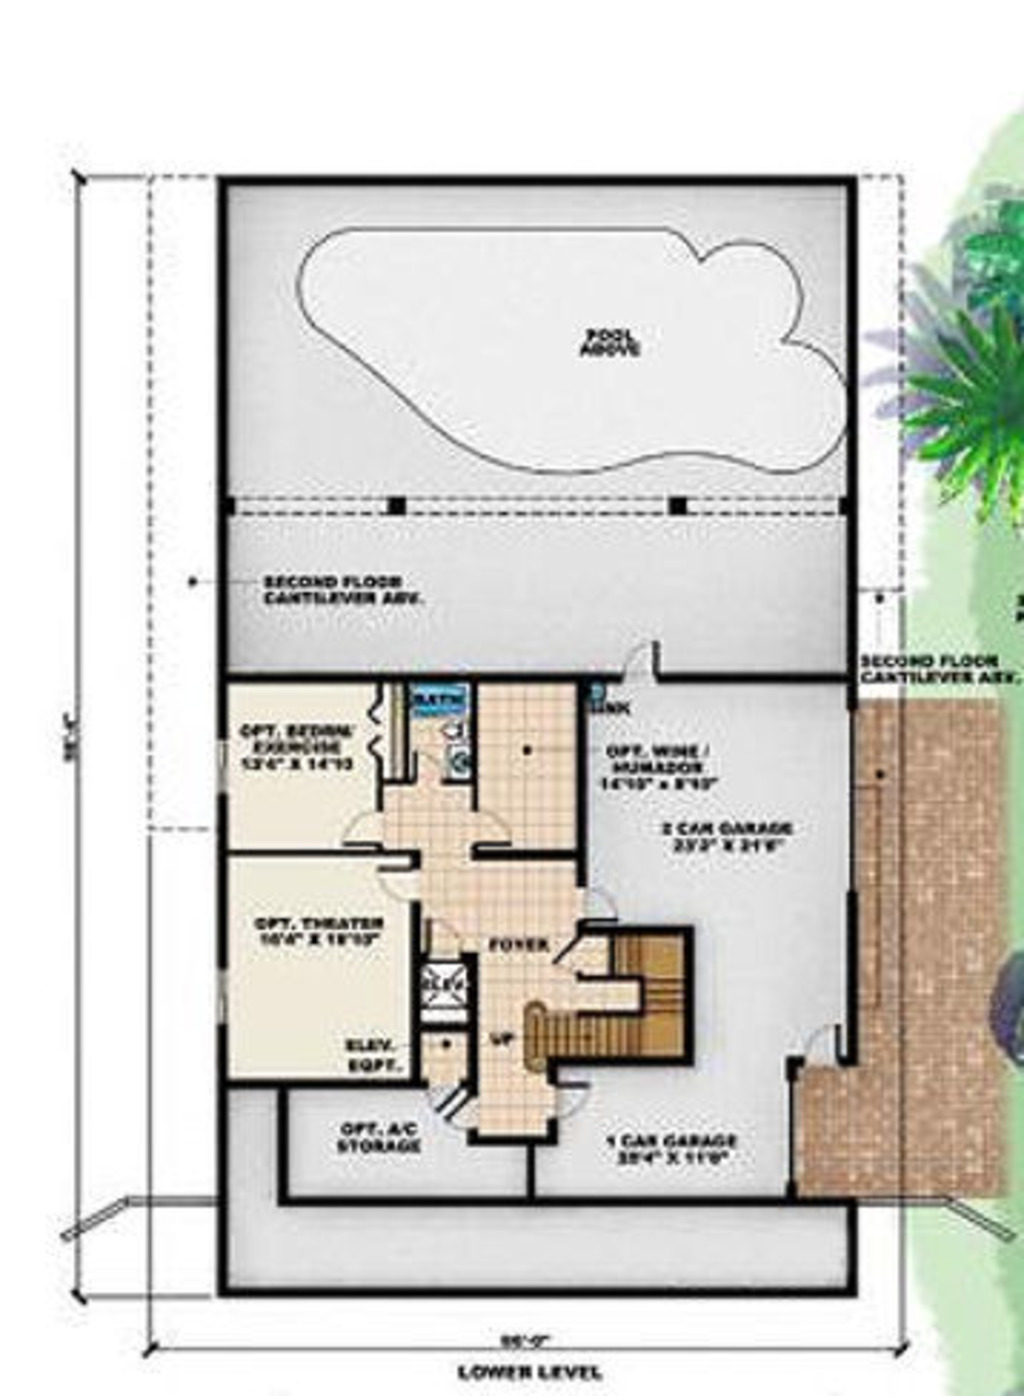door: (415, 912, 469, 966), (800, 1018, 844, 1074), (339, 809, 390, 854), (375, 859, 418, 906), (545, 1077, 591, 1121), (621, 639, 662, 678), (417, 1077, 465, 1111), (584, 877, 617, 923), (474, 805, 509, 848)
stairs: (521, 936, 700, 1067)
windows: (208, 957, 233, 1027), (213, 733, 235, 800)
